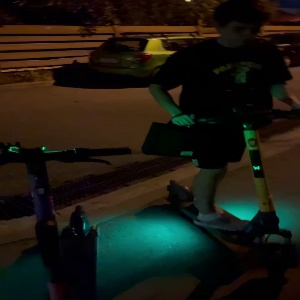human on a scooter: (139, 1, 300, 291)
